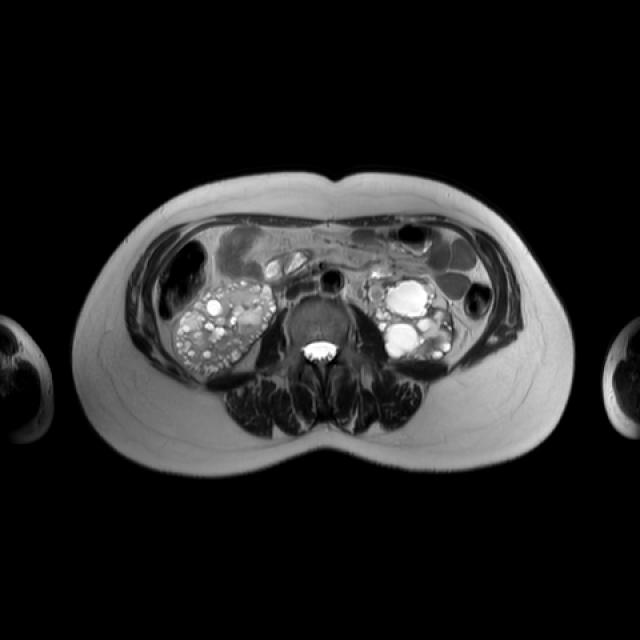sag: (172, 276, 277, 379)
sol: (369, 277, 454, 362)
